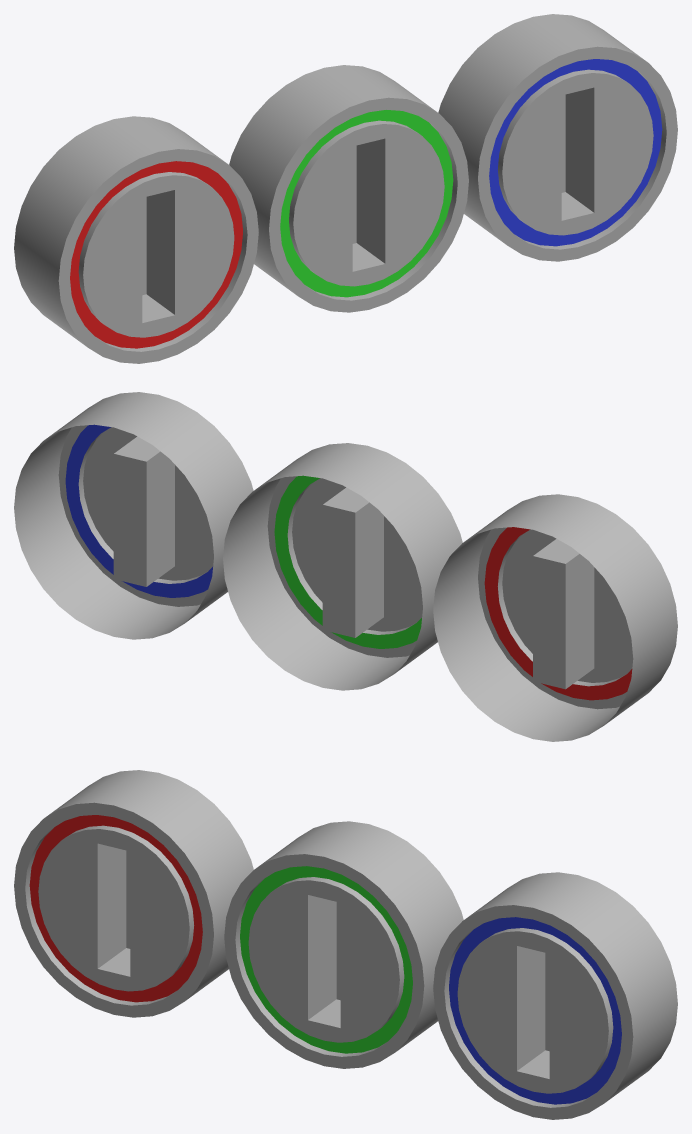
The model's file is Locks.fbx.
The picture shows the model from 3 angles, top to bottom: view 1: azimuth 30°, elevation 25°; view 2: azimuth 150°, elevation 25°; view 3: azimuth 330°, elevation 25°; orthographic projection.
Parts seen in each view (by area): view 1: Cylinder, Cylinder.001, Cylinder.002; view 2: Cylinder, Cylinder.001, Cylinder.002; view 3: Cylinder.002, Cylinder, Cylinder.001.
Boxes of the visible parts, x1,y1,x2,y2 form: Cylinder: (14, 116, 258, 363); Cylinder.001: (229, 65, 468, 312); Cylinder.002: (438, 14, 677, 261); Cylinder: (433, 494, 677, 741); Cylinder.001: (223, 443, 462, 690); Cylinder.002: (14, 392, 253, 639); Cylinder.002: (433, 872, 677, 1119); Cylinder: (14, 770, 253, 1017); Cylinder.001: (224, 821, 463, 1068).
Bounding box in the file's own units: 34.24 × 11.06 × 4.28.
